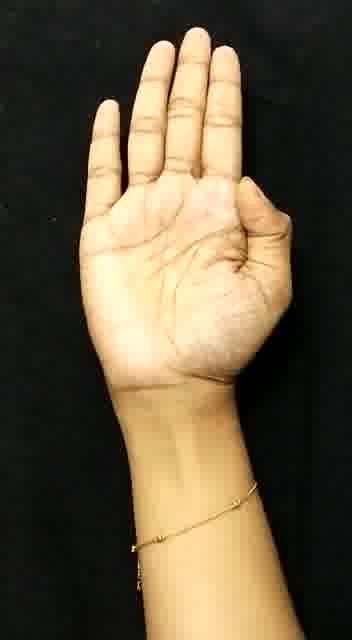pataka: (80, 19, 306, 418)
